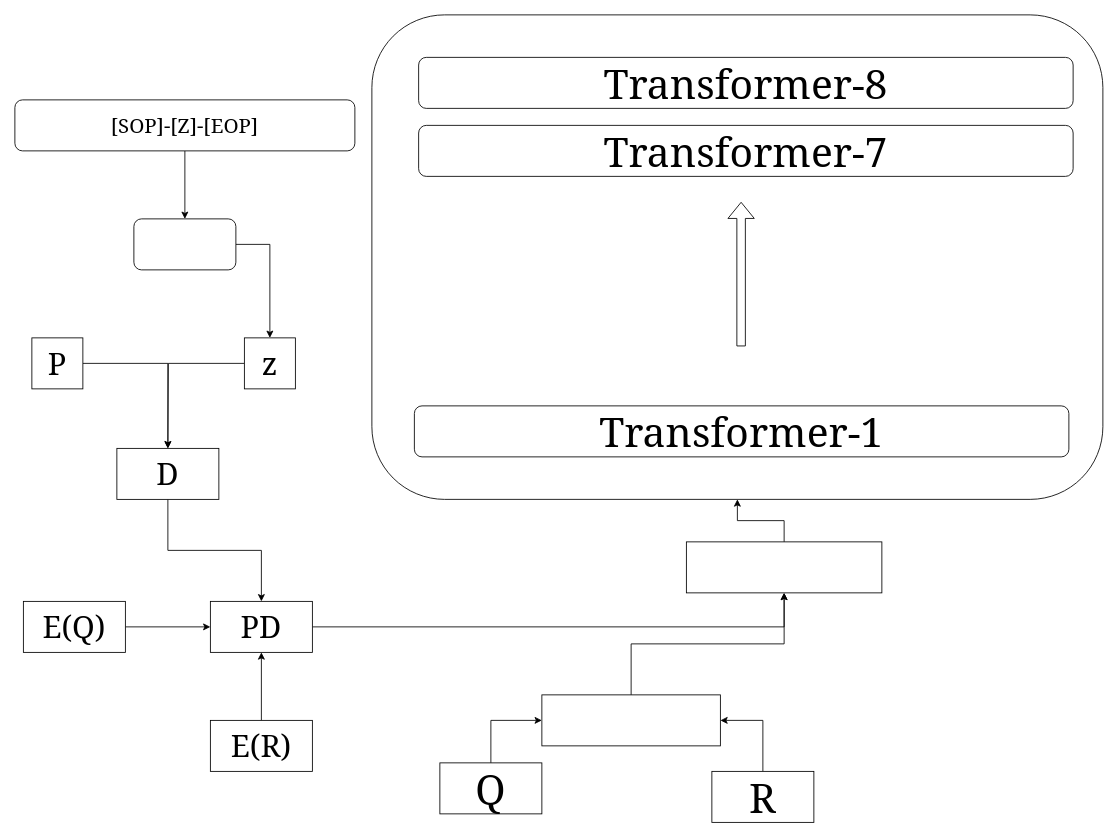
The diagram is 1118 pixels wide and 838 high, and some of its shapes have lost their labels. Here are the shapes that lost their labels. From the top down, the centre of each, then its label:
At pixel 184 244: "E_B".
At pixel 784 567: "Dataset".
At pixel 630 720: "Word Embedding".
